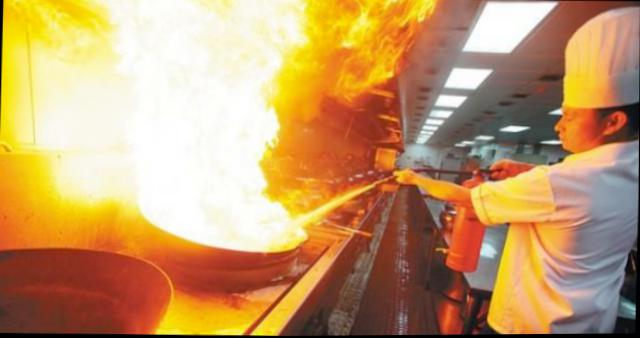fire: (130, 71, 281, 187), (93, 0, 305, 79), (304, 0, 432, 85), (140, 181, 294, 243), (7, 0, 95, 72)
